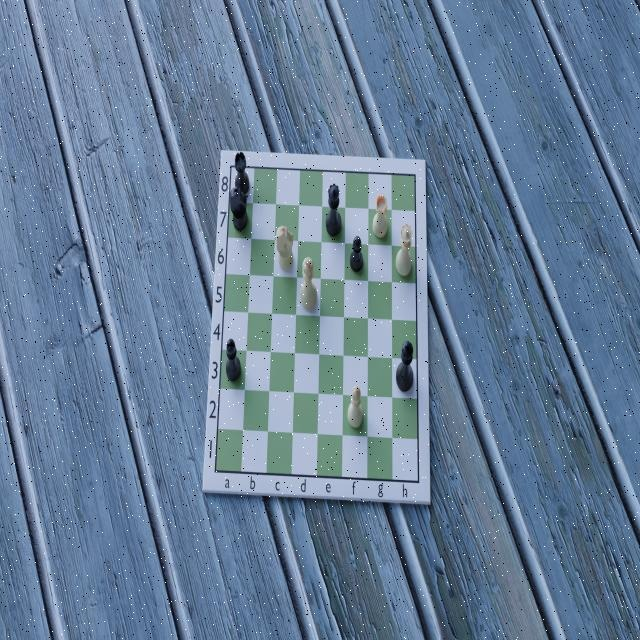black-bishop: (225, 337, 243, 384)
black-king: (394, 338, 414, 394)
black-knight: (229, 187, 251, 232)
black-pawn: (348, 234, 364, 273)
black-queen: (324, 181, 343, 238)
black-rook: (233, 151, 251, 199)
white-bishop: (347, 383, 365, 431)
white-king: (298, 256, 318, 312)
white-knight: (275, 224, 295, 271)
white-queen: (394, 222, 414, 278)
white-rook: (371, 191, 389, 240)
